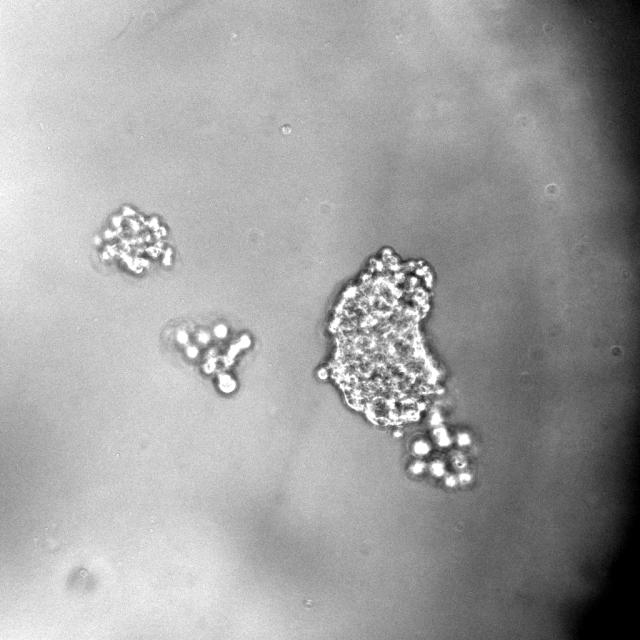organoid: (316, 246, 478, 493), (162, 320, 254, 396), (94, 205, 175, 276)
